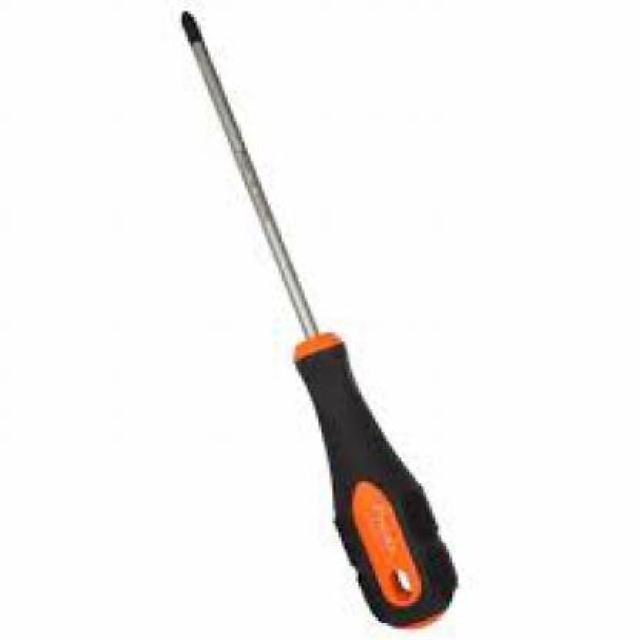screwdriver: (179, 11, 458, 632)
